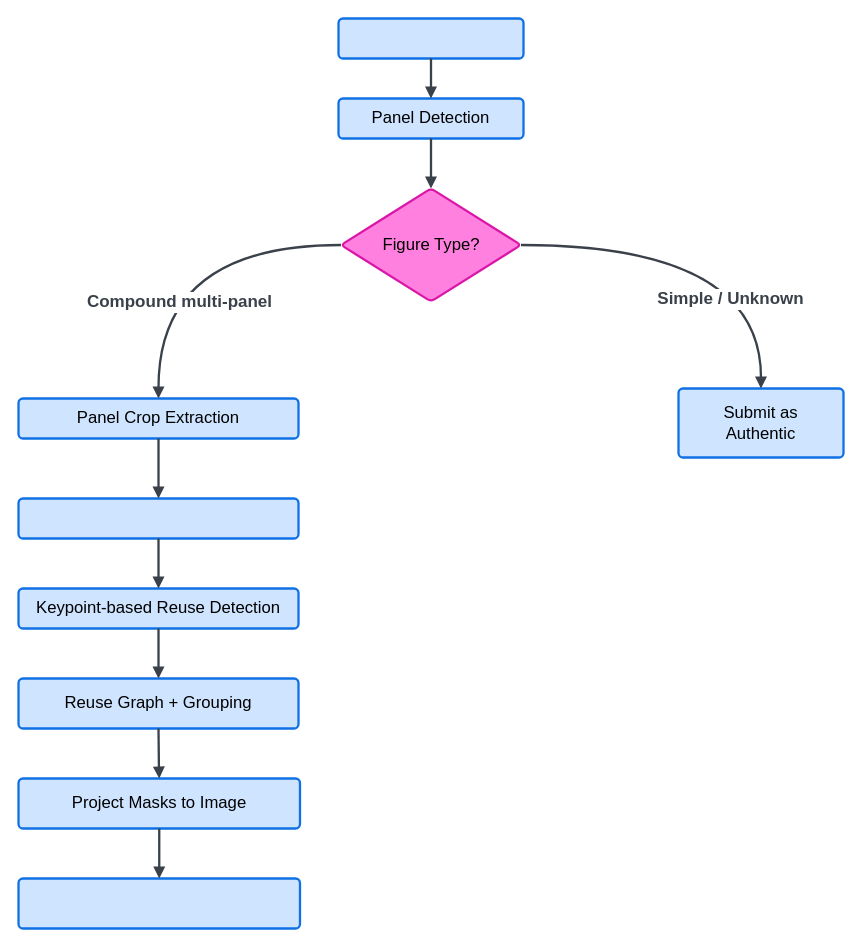
Some shapes in this 862 by 947 pixel diagram are drawn without their labels. Each missing label, with the centre of its shape:
"Candidate Pair Pruning" goes at (x=158, y=518).
"Input Figure" goes at (x=430, y=38).
"Mask Filtering + RLE Encoding" goes at (x=159, y=903).
